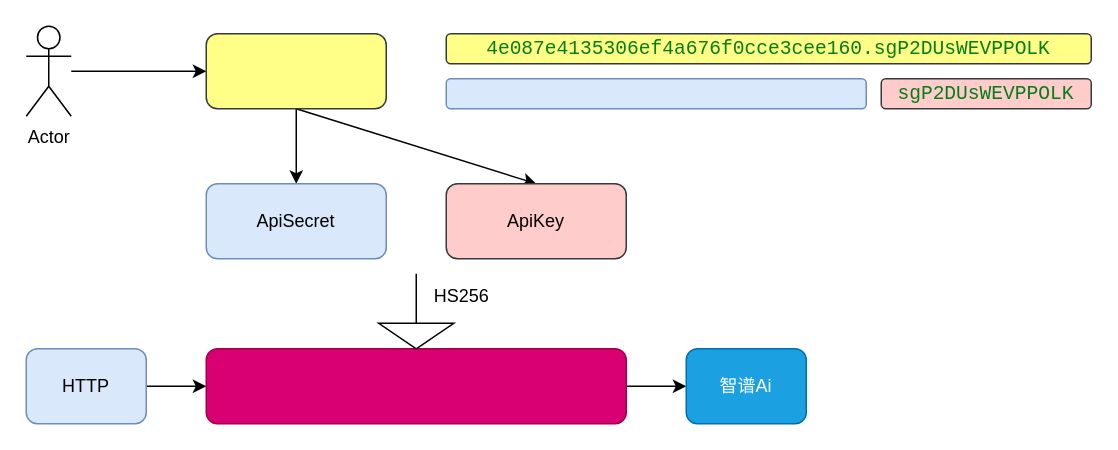
This 1118x450 diagram has some shape labels left out. The centre of each missing label's shape, as x and y in pixels:
4e087e4135306ef4a676f0cce3cee160: point 655,93
ApiSecretKey: point 295,70
Authorization Bearer JWT Token: point 415,385
